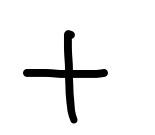plus: (23, 29, 108, 124)
